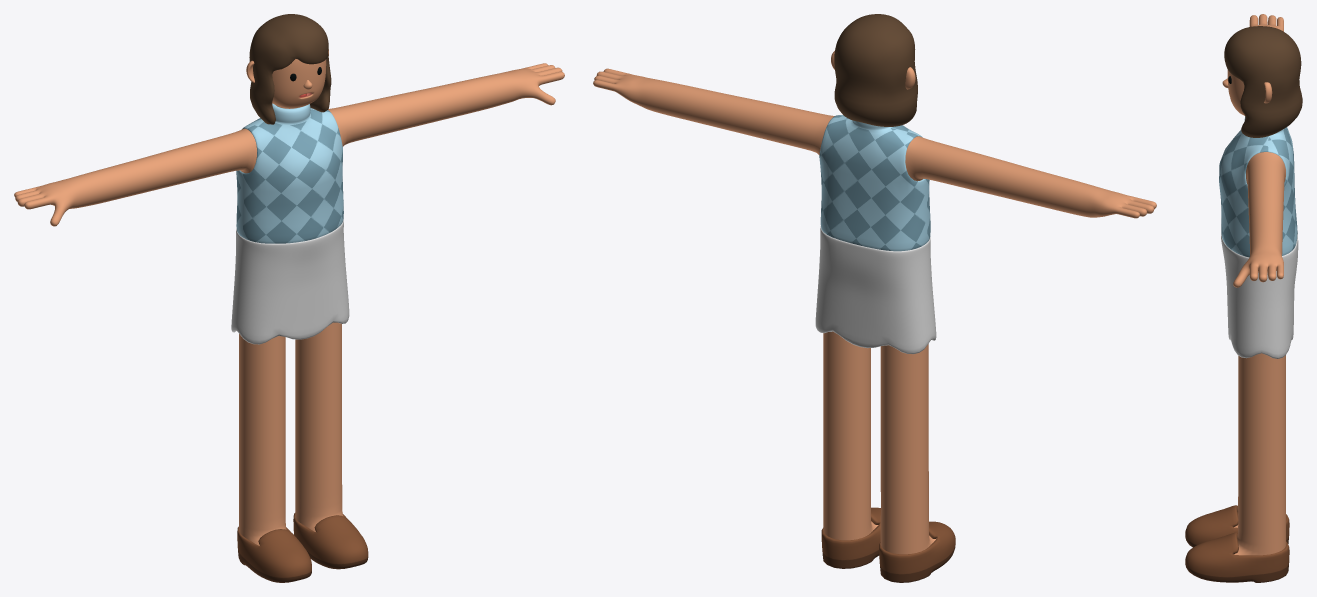
Rendered from GIRL 11.fbx.
3 views of the same model, side by side, from view 1: azimuth 30°, elevation 25°; view 2: azimuth 150°, elevation 25°; view 3: azimuth 270°, elevation 25° (orthographic). The views are drawn at different scales.
Visible parts, largest first — view 1: GIRL_BODY_WITH SKIRT.004, GIRL 11_SHIRT, GIRL 11_SKIRT, GIRL 11_HAIR, GIRL_11_SHOES.R, GIRL_11_SHOES.L; view 2: GIRL_BODY_WITH SKIRT.004, GIRL 11_SHIRT, GIRL 11_SKIRT, GIRL 11_HAIR, GIRL_11_SHOES.R, GIRL_11_SHOES.L; view 3: GIRL_BODY_WITH SKIRT.004, GIRL 11_HAIR, GIRL 11_SKIRT, GIRL 11_SHIRT, GIRL_11_SHOES.L, GIRL_11_SHOES.R.
Boxes of the visible parts, bbox=[...] form: GIRL_BODY_WITH SKIRT.004: bbox=[14, 49, 564, 545]; GIRL 11_SHIRT: bbox=[236, 103, 343, 243]; GIRL 11_SKIRT: bbox=[231, 219, 349, 344]; GIRL 11_HAIR: bbox=[249, 14, 331, 124]; GIRL_11_SHOES.R: bbox=[237, 526, 311, 582]; GIRL_11_SHOES.L: bbox=[293, 513, 368, 569]; GIRL_BODY_WITH SKIRT.004: bbox=[593, 51, 1156, 554]; GIRL 11_SHIRT: bbox=[819, 115, 930, 251]; GIRL 11_SKIRT: bbox=[815, 226, 936, 354]; GIRL 11_HAIR: bbox=[834, 14, 917, 126]; GIRL_11_SHOES.R: bbox=[879, 521, 955, 582]; GIRL_11_SHOES.L: bbox=[821, 507, 880, 568]; GIRL_BODY_WITH SKIRT.004: bbox=[1222, 14, 1285, 555]; GIRL 11_HAIR: bbox=[1224, 26, 1302, 137]; GIRL 11_SKIRT: bbox=[1221, 230, 1298, 358]; GIRL 11_SHIRT: bbox=[1219, 117, 1297, 257]; GIRL_11_SHOES.L: bbox=[1185, 532, 1289, 582]; GIRL_11_SHOES.R: bbox=[1185, 505, 1289, 547].
Bounding box in the file's own units: 205 × 192 × 38.59.
Materials: 8 (5 with a texture image).
